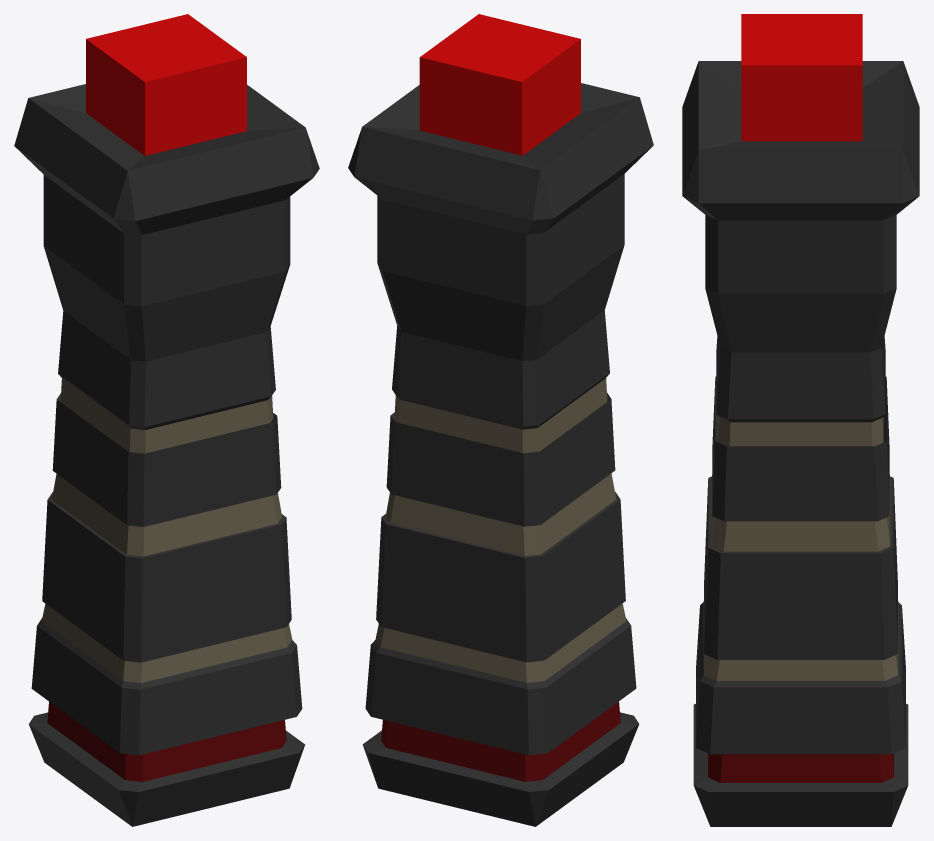
The model's file is Switch_V2.fbx.
3 views of the same model, side by side, from view 1: azimuth 30°, elevation 25°; view 2: azimuth 150°, elevation 25°; view 3: azimuth 270°, elevation 25° (orthographic). The views are drawn at different scales.
Visible parts, largest first — view 1: Cube, 立方體; view 2: Cube, 立方體; view 3: Cube, 立方體.
Boxes of the visible parts, x1,y1,x2,y2 form: Cube: (14,84,319,826); 立方體: (86,14,246,155); Cube: (348,83,653,826); 立方體: (419,14,580,155); Cube: (682,61,919,826); 立方體: (741,14,862,141).
Size of the model in its own units: 155 by 523 by 150.
